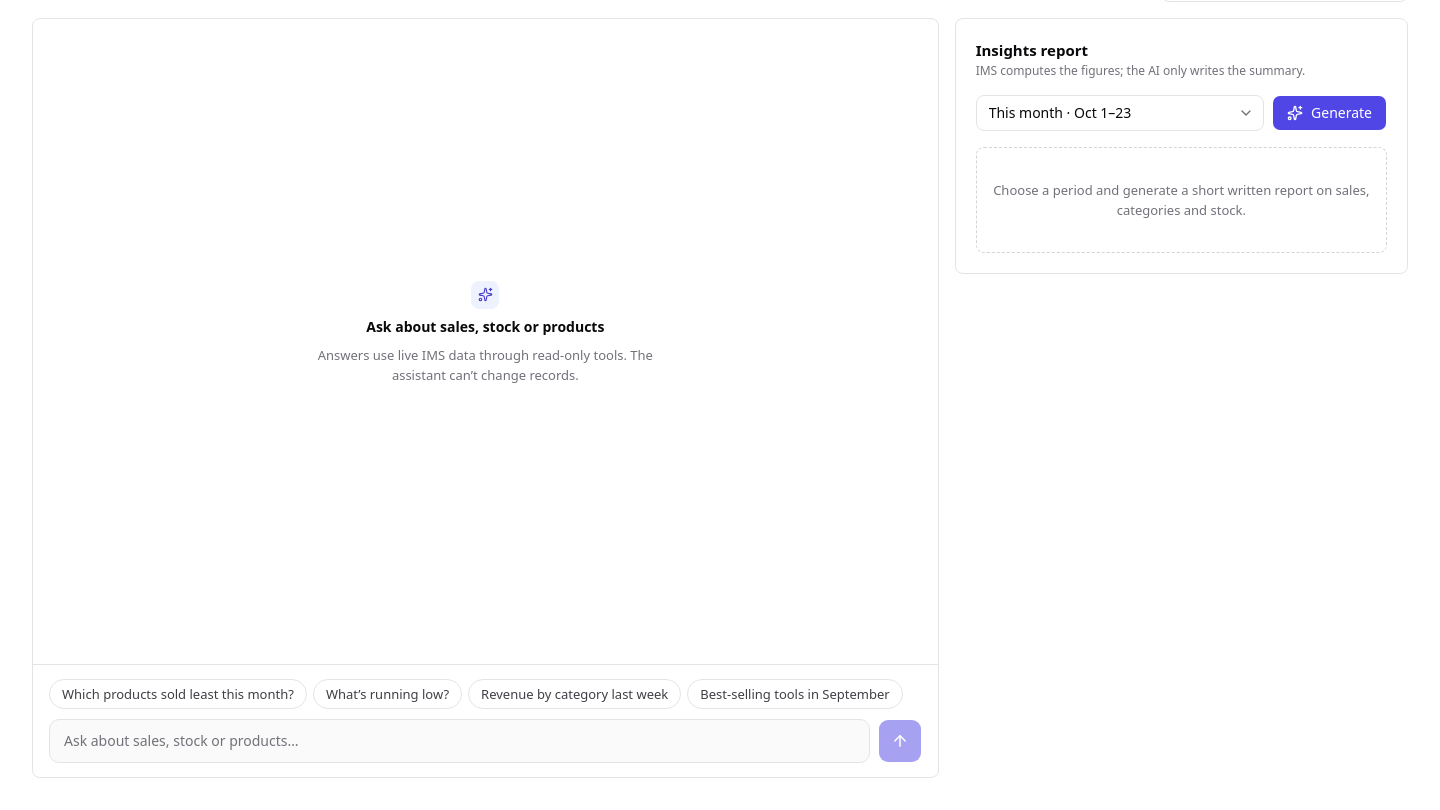
Test: AssistantPage (M8) › explains an outage and offers to retry (AI_UNAVAILABLE)
(page scrolled)
In the text box labelled "Ask about sales, stock or products…": (459, 741) [49,719,870,763], type "Sales today?"
Then press Enter
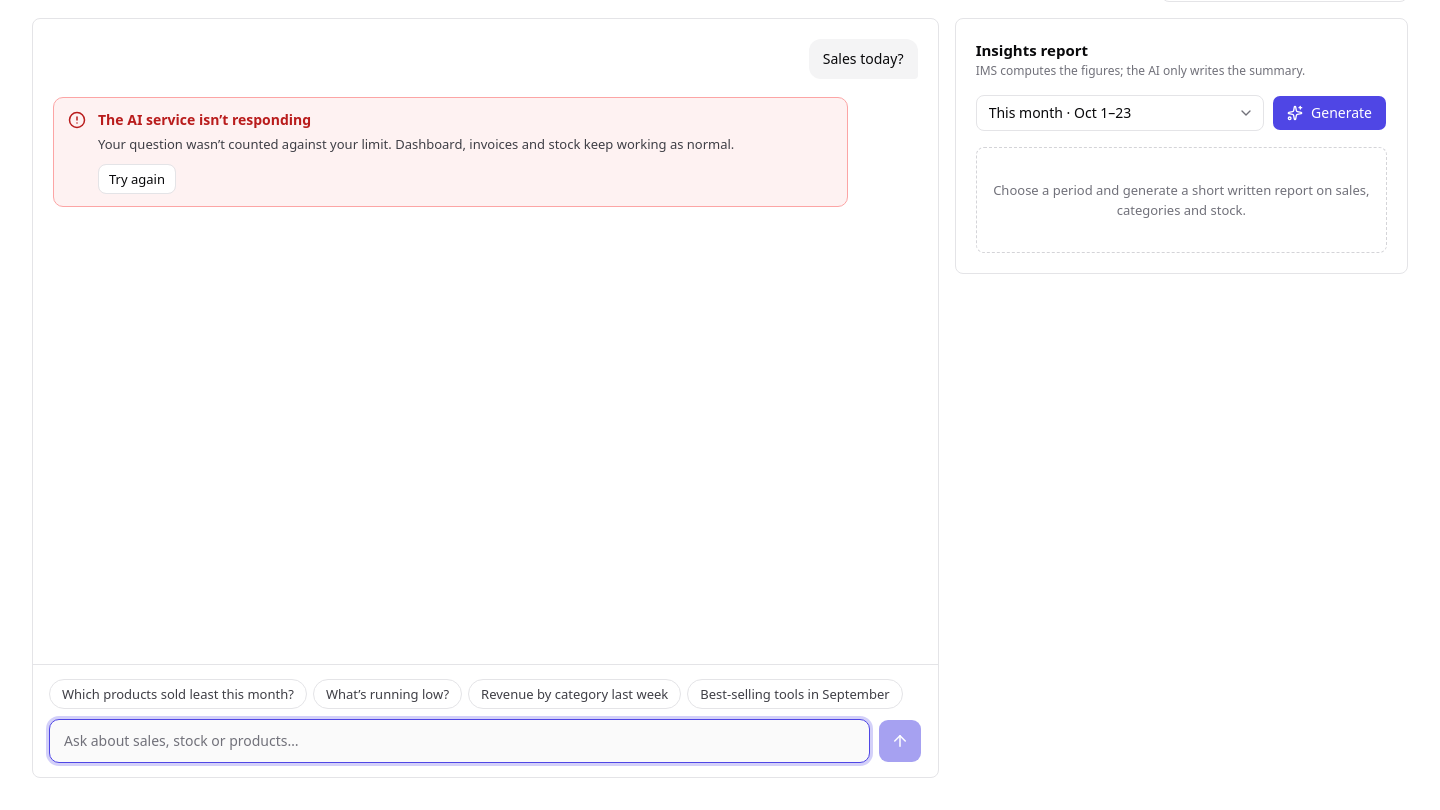
expect the message shows "The AI service isn’t responding": met, box [98,110,311,129]
expect the message shows "wasn’t counted against your limit": met, box [98,135,734,153]
expect the button "Try again" is shown: met, box [98,164,176,194]
